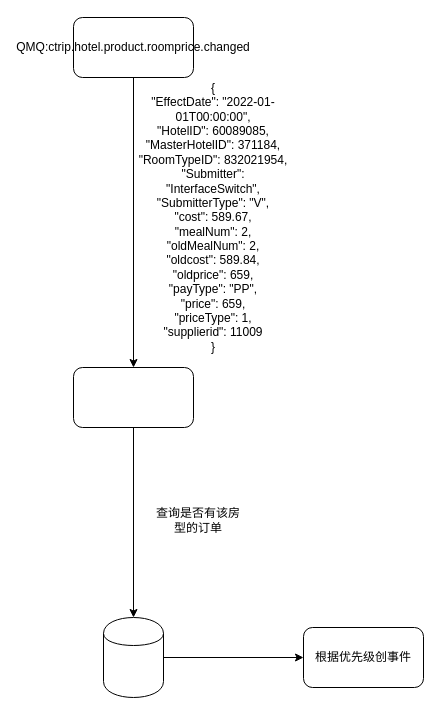
This 441x715 diagram has some shape labels left out. Here are the shapes that lost their labels. From the top down, the box of each, then its label:
(72, 366, 194, 428): 过滤得到房型id
(102, 616, 164, 698): effective_order_flu
